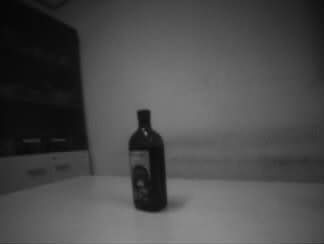Bottle: (126, 108, 169, 211)
